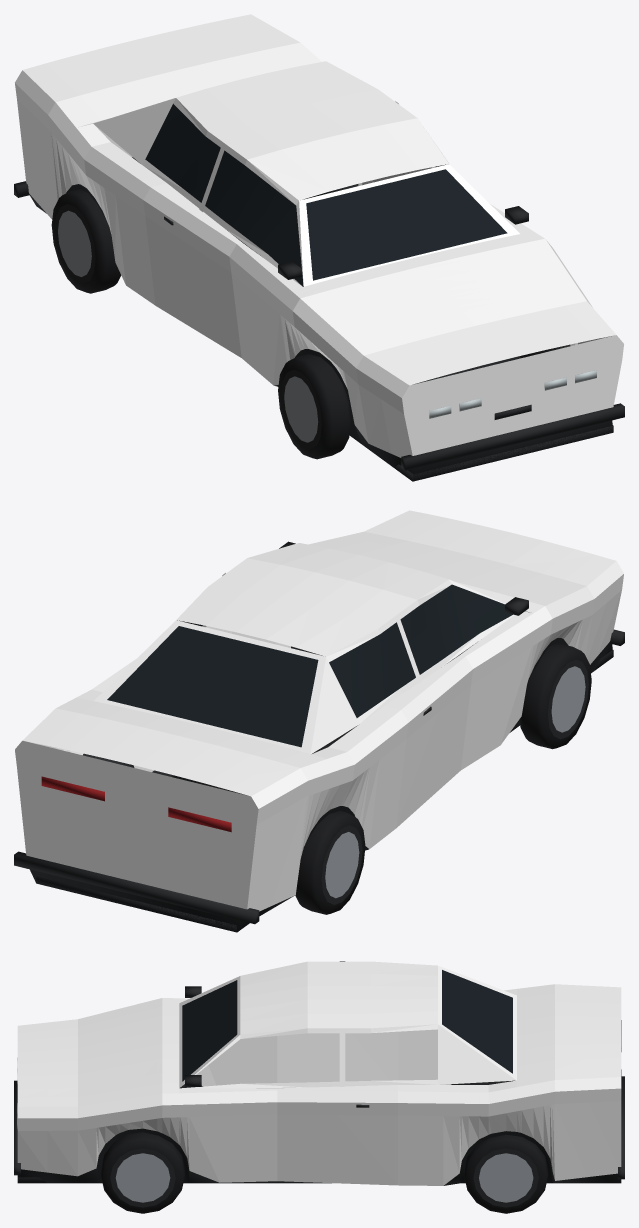
The model's file is bancroft_marreta.glb.
3 renders of one model, top to bottom at view 1: azimuth 30°, elevation 25°; view 2: azimuth 150°, elevation 25°; view 3: azimuth 270°, elevation 25°, orthographic. The views are drawn at different scales.
Visible parts, largest first — view 1: Body_Paint, Body_Details, Mount_FrontLeft_Wheel_Details, Mount_RearLeft_Wheel_Details; view 2: Body_Paint, Body_Details, Mount_FrontLeft_Wheel_Details, Mount_RearLeft_Wheel_Details; view 3: Body_Paint, Body_Details, Mount_FrontRight_Wheel_Details, Mount_RearRight_Wheel_Details.
Boxes of the visible parts, box(x1,y1,x2,y2) form: Body_Paint: box(15, 14, 623, 457); Body_Details: box(14, 103, 624, 481); Mount_FrontLeft_Wheel_Details: box(278, 354, 350, 459); Mount_RearLeft_Wheel_Details: box(51, 189, 121, 293); Body_Paint: box(15, 510, 623, 911); Body_Details: box(14, 541, 624, 932); Mount_FrontLeft_Wheel_Details: box(519, 643, 591, 749); Mount_RearLeft_Wheel_Details: box(295, 811, 365, 914); Body_Paint: box(17, 961, 621, 1185); Body_Details: box(14, 970, 624, 1185); Mount_FrontRight_Wheel_Details: box(101, 1132, 184, 1213); Mount_RearRight_Wheel_Details: box(464, 1134, 548, 1213).
Bounding box in the file's own units: 1.97 × 1.48 × 4.8.
Materials: 2 (1 with a texture image).
